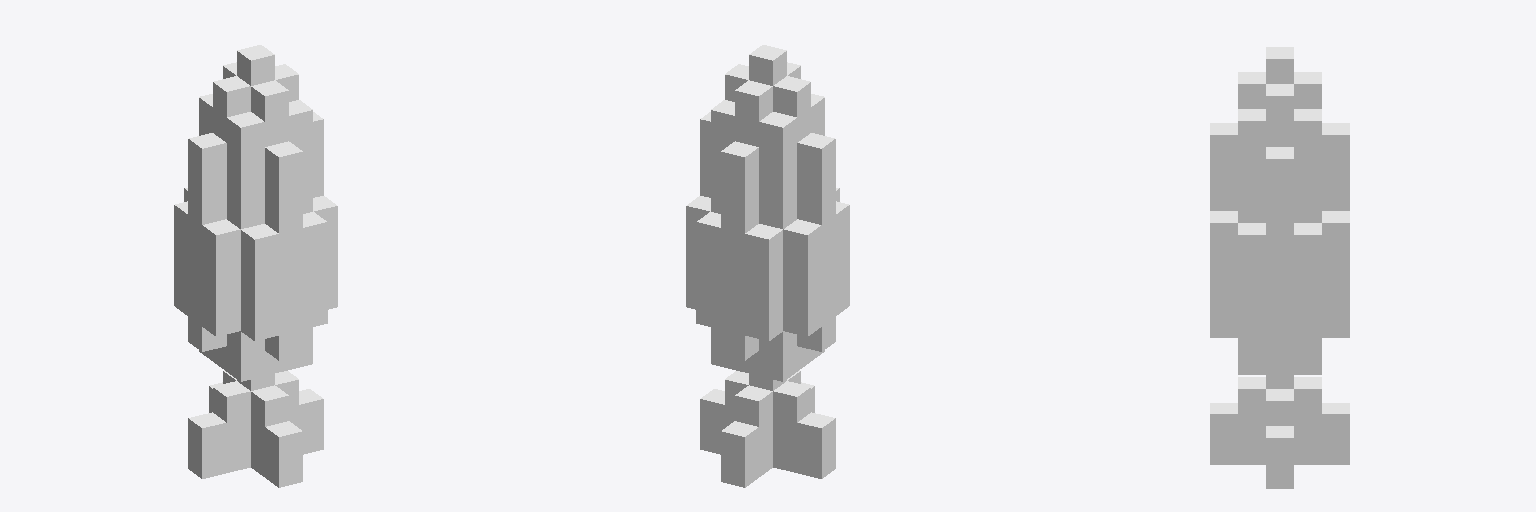
The model's file is Obus.vox.obj.
3 renders of one model, left to right at view 1: azimuth 30°, elevation 25°; view 2: azimuth 150°, elevation 25°; view 3: azimuth 270°, elevation 25°, orthographic.
Visible parts, largest first — view 1: object 1; view 2: object 1; view 3: object 1.
Part boxes in pixels (bbox=[...]): object 1: bbox=[174, 45, 337, 487]; object 1: bbox=[686, 45, 849, 487]; object 1: bbox=[1210, 47, 1349, 488].
Size of the model in its own units: 0.5 by 1.6 by 0.5.